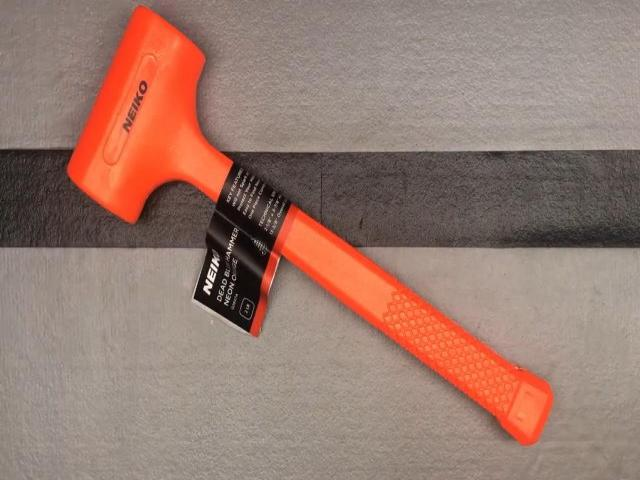hammer: (64, 6, 554, 440)
